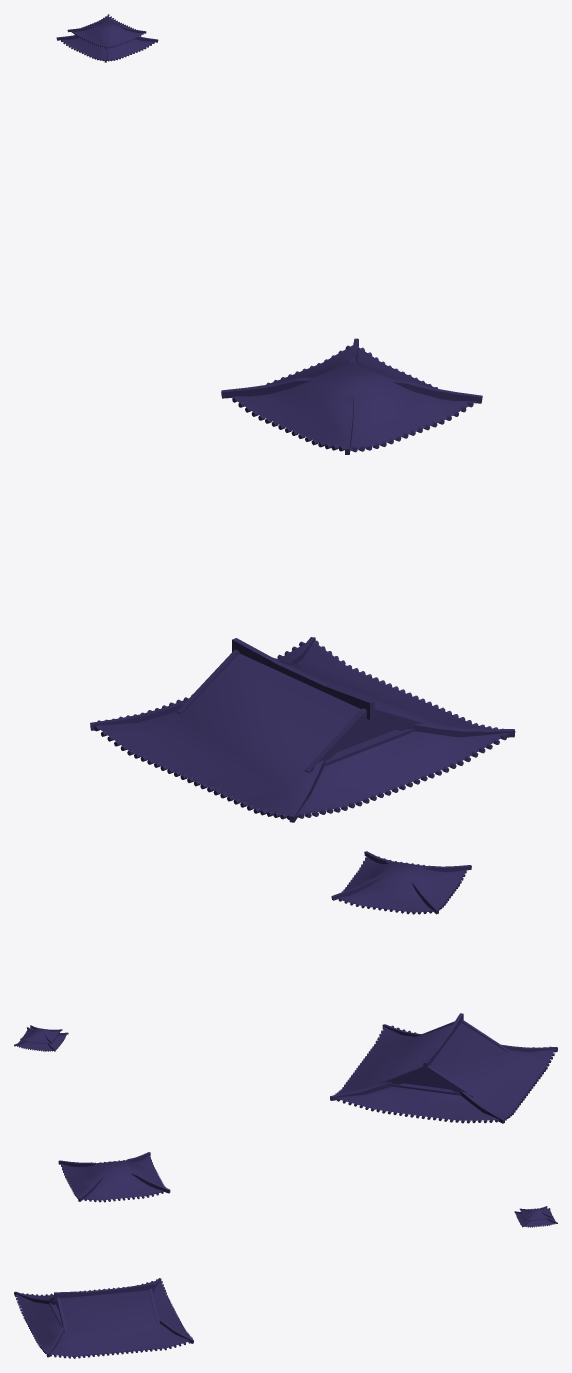
The model's file is toit chinois complet 02.fbx.
3 renders of one model, top to bottom at view 1: azimuth 30°, elevation 25°; view 2: azimuth 150°, elevation 25°; view 3: azimuth 270°, elevation 25°, orthographic. The views are drawn at different scales.
Parts seen in each view (by area): view 1: Cube.204, Cube.216, Cube.268, Cube.208, Cube.206, Cube.205, Circle.056, Circle.058, Cube.426, Cube.429; view 2: Cube.204, Cube.216, Cube.268, Cube.208, Cube.206, Circle.056, Cube.205, Circle.058, Cube.426, Cube.429; view 3: Cube.204, Cube.216, Cube.208, Cube.205, Cube.268, Circle.058, Circle.056, Cube.206, Cube.426, Cube.429.
Boxes of the visible parts, x1,y1,x2,y2 form: Cube.204: (99,642,509,816); Cube.216: (231,345,476,450); Cube.268: (90,637,515,822); Cube.208: (221,338,482,454); Cube.206: (177,649,425,772); Cube.205: (232,638,374,719); Circle.056: (94,640,503,819); Circle.058: (97,641,506,818); Cube.426: (71,16,144,47); Cube.429: (61,38,155,60); Cube.204: (334,1022,553,1120); Cube.216: (336,857,466,912); Cube.268: (330,1024,557,1123); Cube.208: (331,851,471,914); Cube.206: (380,1020,508,1097); Circle.056: (334,1026,556,1120); Cube.205: (423,1013,463,1073); Circle.058: (337,1025,550,1123); Cube.426: (22,1027,60,1043); Cube.429: (16,1030,65,1050); Cube.204: (16,1280,188,1356); Cube.216: (60,1155,165,1200); Cube.208: (58,1152,170,1201); Cube.205: (54,1283,154,1301); Cube.268: (14,1278,193,1357); Circle.058: (15,1281,192,1353); Circle.056: (22,1279,190,1358); Cube.206: (49,1288,160,1332); Cube.426: (521,1207,550,1220); Cube.429: (515,1209,555,1226).
Size of the model in its own units: 6094 by 4636 by 13316.
